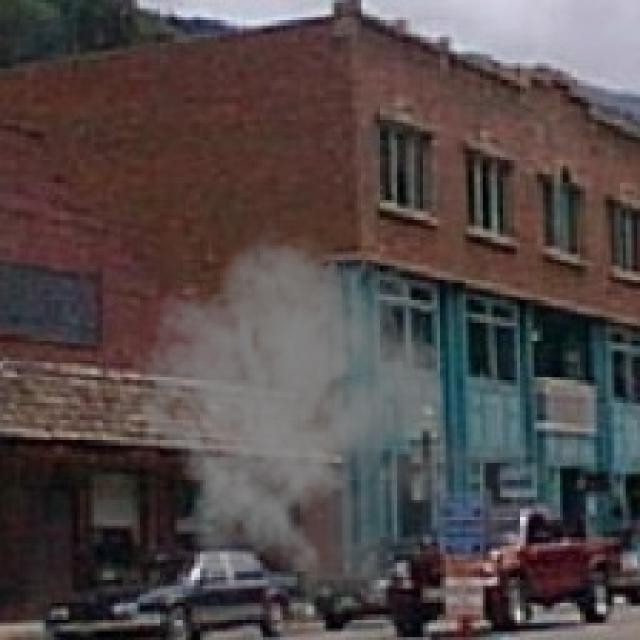Smoke: (132, 215, 554, 620)
